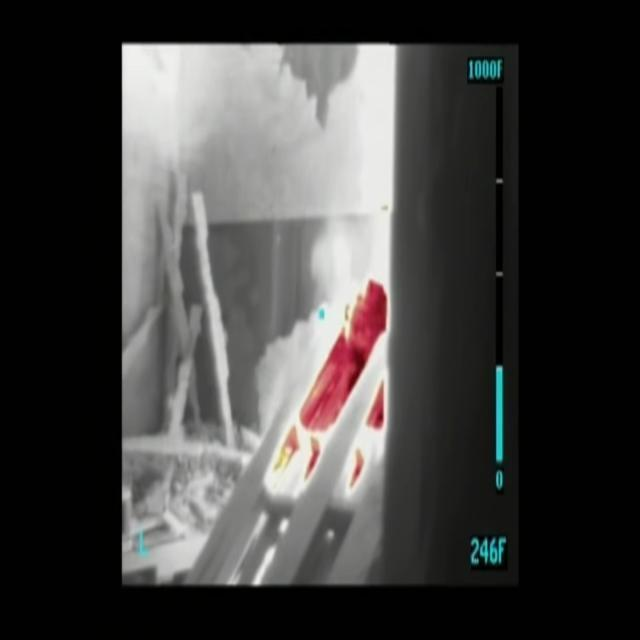fire: (269, 275, 391, 494)
